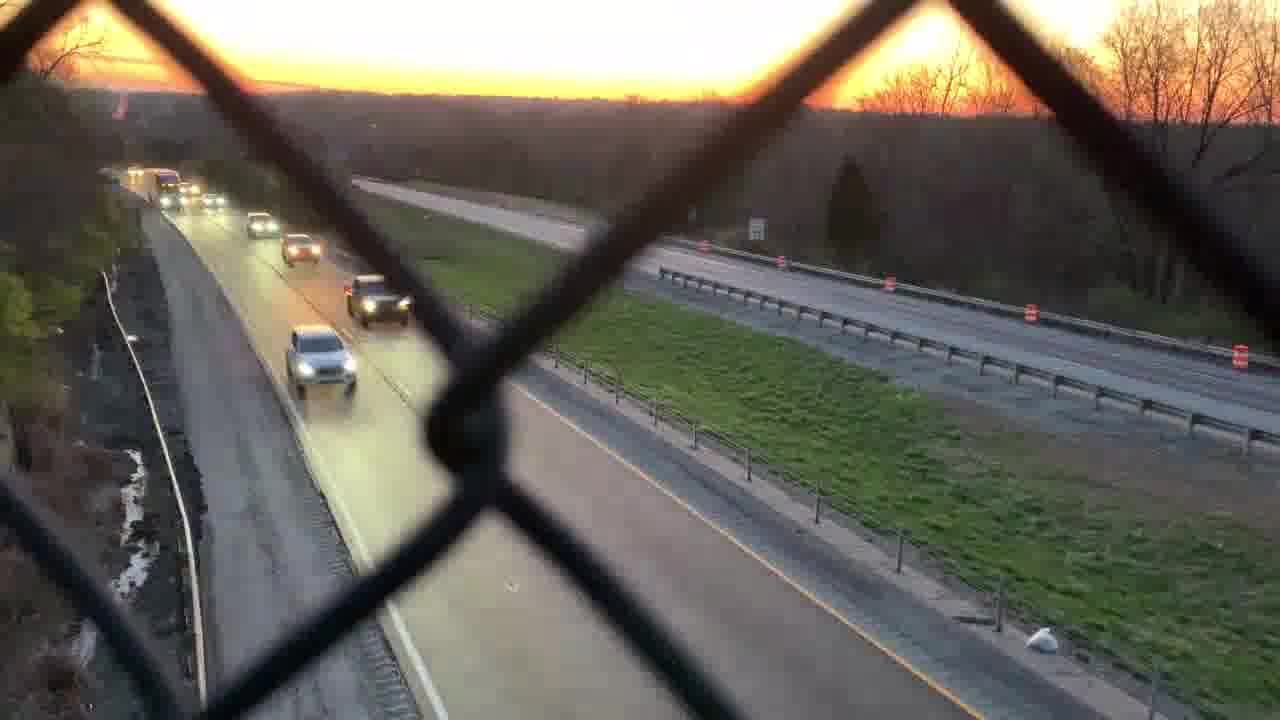lightTruck: (342, 277, 411, 327)
smallCar: (281, 322, 362, 402)
